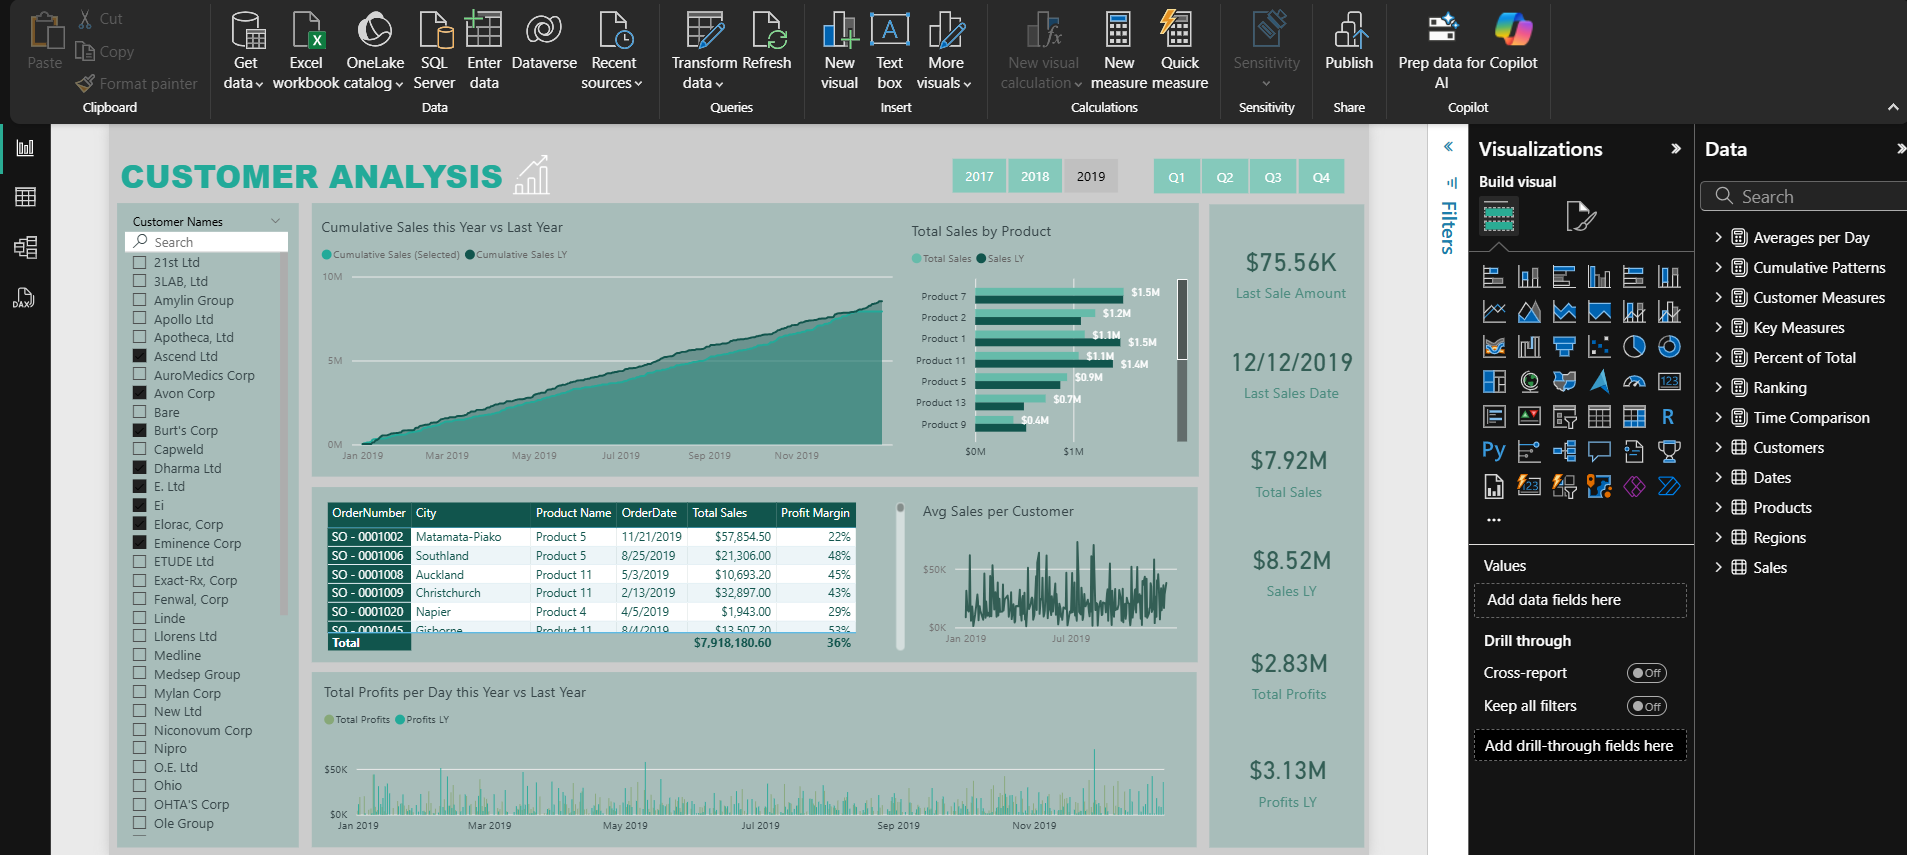

The page's visual inventory and layout, read from the dashboard file:
{"tool":"powerbi","page":{"name":"Customers","canvas":[1280,720],"ordinal":1},"visuals":[{"type":"basicShape","box":[6.6,48.8,188.4,668.3],"z":0},{"type":"basicShape","box":[197.3,52.1,919.8,283.7],"z":1000},{"type":"basicShape","box":[197.3,341.3,918.7,181.7],"z":2000},{"type":"basicShape","box":[197.3,529.7,917.6,181.7],"z":3000},{"type":"basicShape","box":[1117.1,49.9,160.7,667.2],"z":4000},{"type":"slicer","fields":{"Values":["Customers.Customer Names"]},"box":[11.1,61,175.1,641.7],"z":5000},{"type":"textbox","box":[6.2,0,422.9,55.6],"z":6000},{"type":"areaChart","title":"Cumulative Sales this Year vs Last Year","fields":{"Category":["Dates.Date"],"Y":["Cumulative Patterns.Cumulative Sales (Selected)","Cumulative Patterns.Cumulative Sales LY"]},"box":[210.6,68.7,602.9,259.3],"z":7000},{"type":"clusteredColumnChart","title":"Total Profits per Day this Year vs Last Year","fields":{"Category":["Dates.Date"],"Y":["Key Measures.Total Profits","Time Comparison.Profits LY"]},"box":[212.8,540.8,887.7,162.9],"z":8000},{"type":"card","fields":{"Values":["Key Measures.Last Sale Date"]},"box":[1129.3,86.4,144.1,75.4],"z":9000},{"type":"card","fields":{"Values":["Key Measures.Last Sales Date"]},"box":[1124.8,187.3,152.9,77.6],"z":10000},{"type":"card","fields":{"Values":["Key Measures.Total Profits"]},"box":[1131.5,494.3,135.2,74.3],"z":11000},{"type":"card","fields":{"Values":["Time Comparison.Profits LY"]},"box":[1134.8,601.8,127.4,77.6],"z":12000},{"type":"card","fields":{"Values":["Key Measures.Total Sales"]},"box":[1134.8,289.2,129.7,72],"z":13000},{"type":"card","fields":{"Values":["Time Comparison.Sales LY"]},"box":[1135.9,392.3,133,68.7],"z":14000},{"type":"tableEx","fields":{"Values":["Sales.OrderNumber","Regions.City","Products.Product Name","Sales.OrderDate","Key Measures.Total Sales","Key Measures.Profit Margin"]},"box":[216.1,354,597.8,160.5],"z":15000},{"type":"clusteredBarChart","title":"Total Sales by Product","fields":{"Category":["Products.Product Name"],"Y":["Key Measures.Total Sales","Time Comparison.Sales LY"]},"box":[810.1,72,290.4,251.6],"z":16000},{"type":"lineChart","title":"Avg Sales per Customer","fields":{"Category":["Dates.Date"],"Y":["Averages per Day.Avg Sales per Customer"]},"box":[822.1,357,277.8,157.4],"z":17000},{"type":"slicer","fields":{"Values":["Dates.Year"]},"box":[833.4,5.1,216.1,44.2],"z":18000},{"type":"slicer","fields":{"Values":["Dates.Quarter"]},"box":[1038.2,5.1,241.8,45.3],"z":19000},{"type":"image","box":[389.5,0.9,78.6,49.5],"z":20000}]}

Visuals, with their boxes on the page's 1280x720 design canvas (x1, y1, x2, y2). These are canvas units, not pixel positions in the 1907x855 screenshot, which may show the page scaled, cropped or inside an application window:
basicShape: 7 49 195 717
basicShape: 197 52 1117 336
basicShape: 197 341 1116 523
basicShape: 197 530 1115 711
basicShape: 1117 50 1278 717
slicer - Customers.Customer Names: 11 61 186 703
textbox: 6 0 429 56
"Cumulative Sales this Year vs Last Year" areaChart: 211 69 814 328
"Total Profits per Day this Year vs Last Year" clusteredColumnChart: 213 541 1100 704
card - Key Measures.Last Sale Date: 1129 86 1273 162
card - Key Measures.Last Sales Date: 1125 187 1278 265
card - Key Measures.Total Profits: 1132 494 1267 569
card - Time Comparison.Profits LY: 1135 602 1262 679
card - Key Measures.Total Sales: 1135 289 1264 361
card - Time Comparison.Sales LY: 1136 392 1269 461
tableEx - Sales.OrderNumber x Regions.City: 216 354 814 514
"Total Sales by Product" clusteredBarChart: 810 72 1100 324
"Avg Sales per Customer" lineChart: 822 357 1100 514
slicer - Dates.Year: 833 5 1050 49
slicer - Dates.Quarter: 1038 5 1280 50
image: 390 1 468 50
